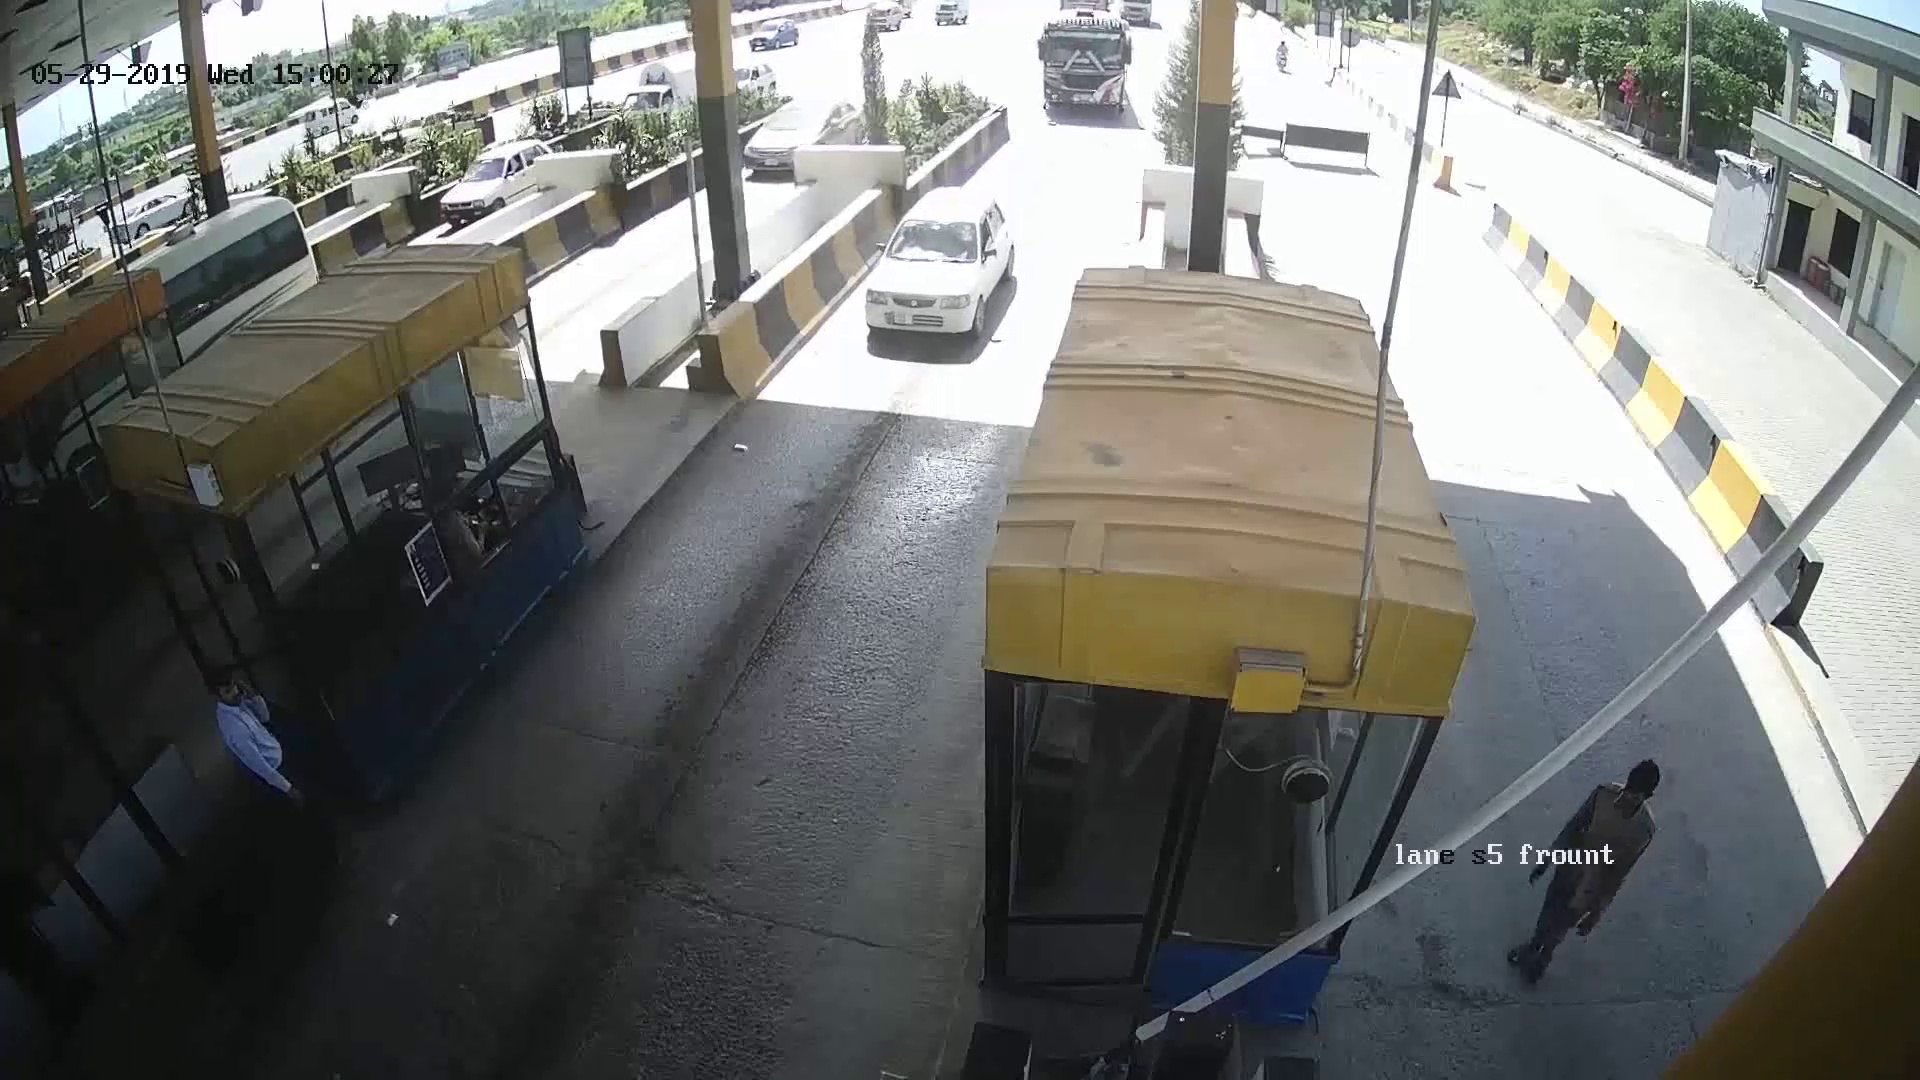car: (855, 206, 1025, 353)
